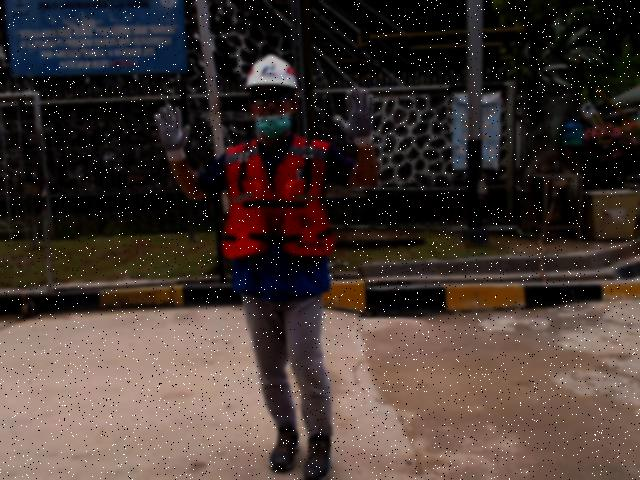glasses: (248, 89, 294, 105)
gloves: (334, 88, 382, 150), (149, 103, 194, 163)
helmet: (240, 51, 299, 93)
mask: (251, 110, 295, 142)
safety-shoes: (270, 422, 302, 473), (304, 434, 332, 477)
vest: (221, 180, 334, 262)
